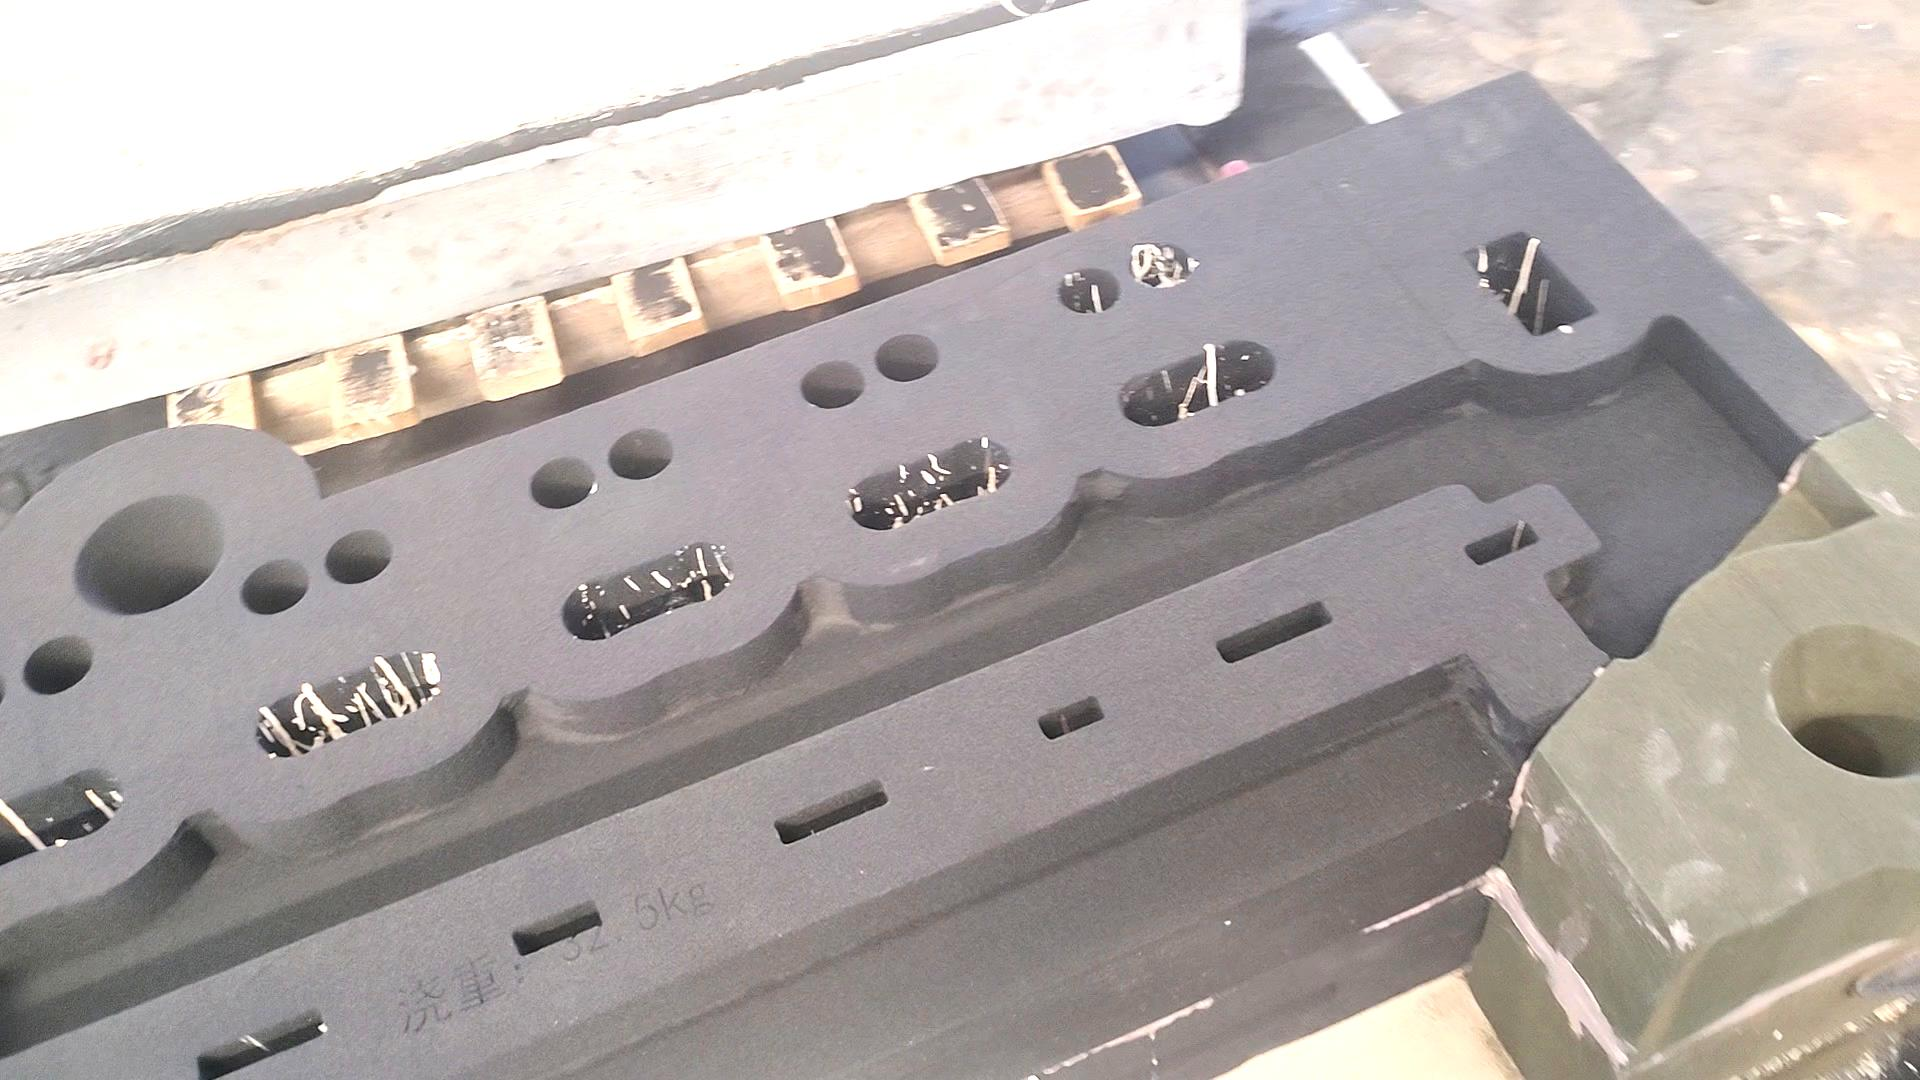pouring hole: (1767, 620, 1920, 778), (70, 491, 225, 617)
